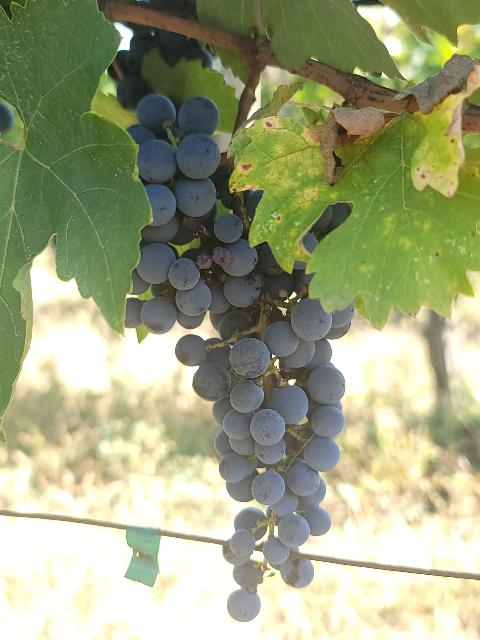grapes: (194, 245, 354, 620), (129, 94, 260, 334)
